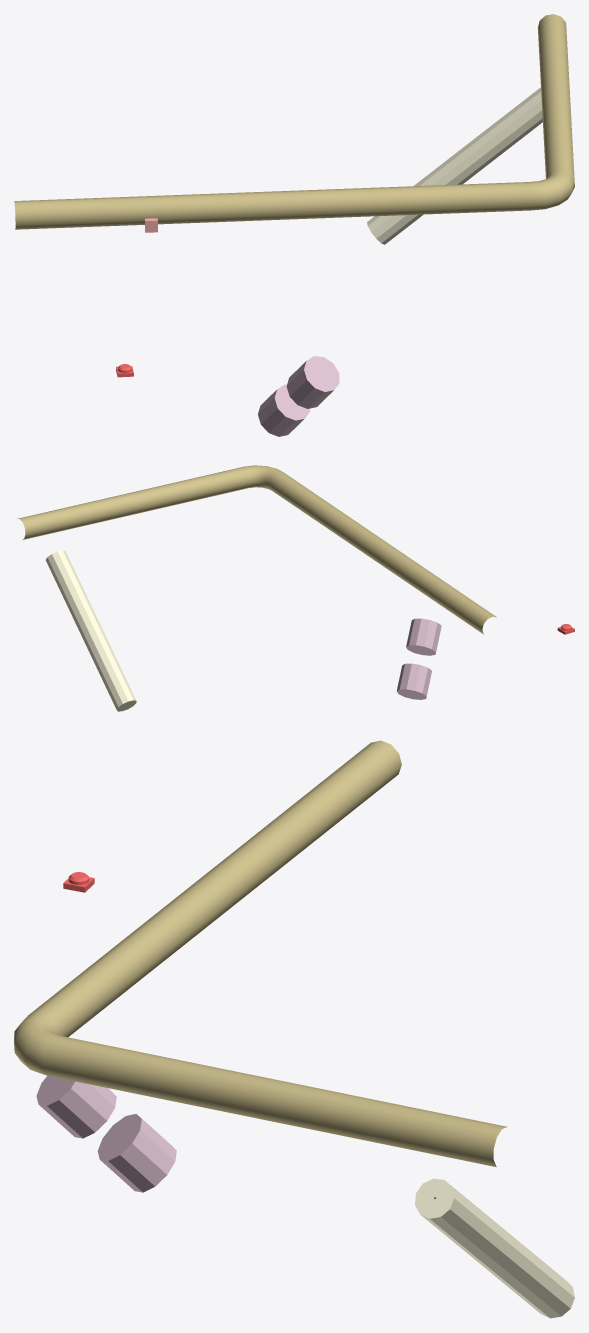
File: tile_249.glb
3 views of the same model, one above another, from view 1: azimuth 30°, elevation 25°; view 2: azimuth 150°, elevation 25°; view 3: azimuth 270°, elevation 25° (orthographic). The views are drawn at different scales.
Size of the model in its own units: 5.89 by 2.21 by 3.29.
